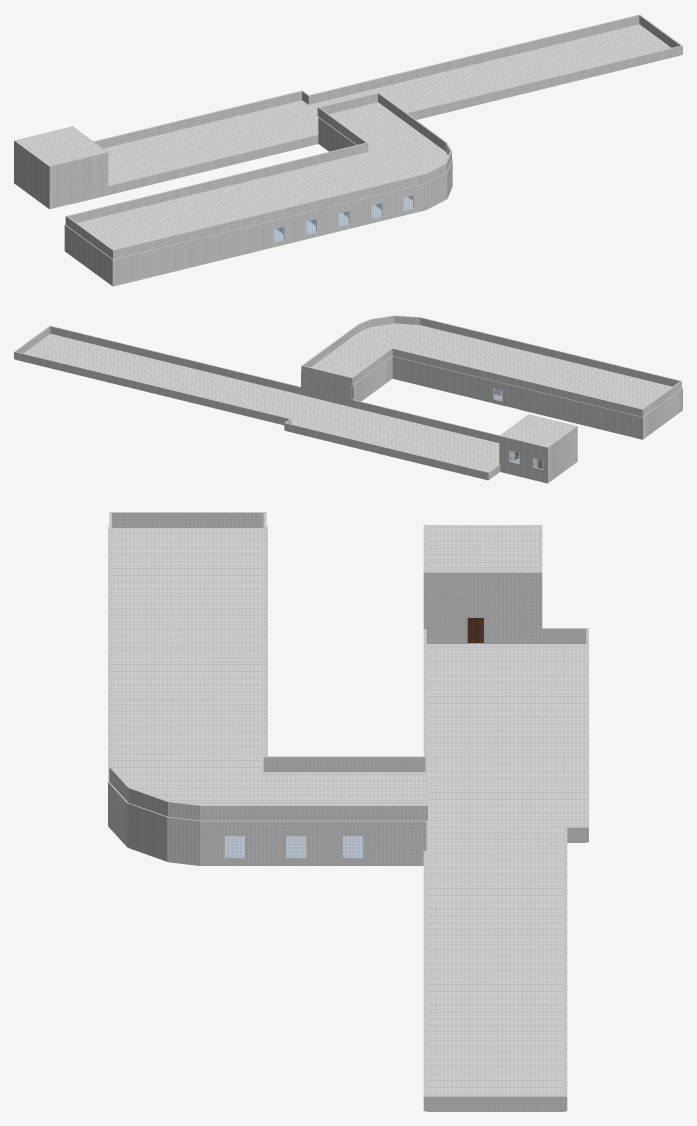
Rendered from hql-f3.glb.
3 views of the same model, one above another, from view 1: azimuth 30°, elevation 25°; view 2: azimuth 150°, elevation 25°; view 3: azimuth 270°, elevation 25° (orthographic). The views are drawn at different scales.
Parts seen in each view (by area): view 1: 3F_Ceiling, 3F, 3F窗; view 2: 3F_Ceiling, 3F, 3F窗; view 3: 3F_Ceiling, 3F, 3F窗.
Part boxes in pixels (left/top/right/bottom): 3F_Ceiling: left=14, top=14, right=682, bottom=259; 3F: left=14, top=15, right=682, bottom=286; 3F窗: left=274, top=195, right=413, bottom=242; 3F_Ceiling: left=14, top=315, right=682, bottom=472; 3F: left=14, top=316, right=682, bottom=483; 3F窗: left=493, top=388, right=543, bottom=469; 3F_Ceiling: left=108, top=512, right=588, bottom=1096; 3F: left=108, top=513, right=588, bottom=1111; 3F窗: left=224, top=836, right=362, bottom=857.
Bounding box in the file's own units: 94.44 × 5.98 × 35.5.
Materials: 6 (6 with a texture image).
